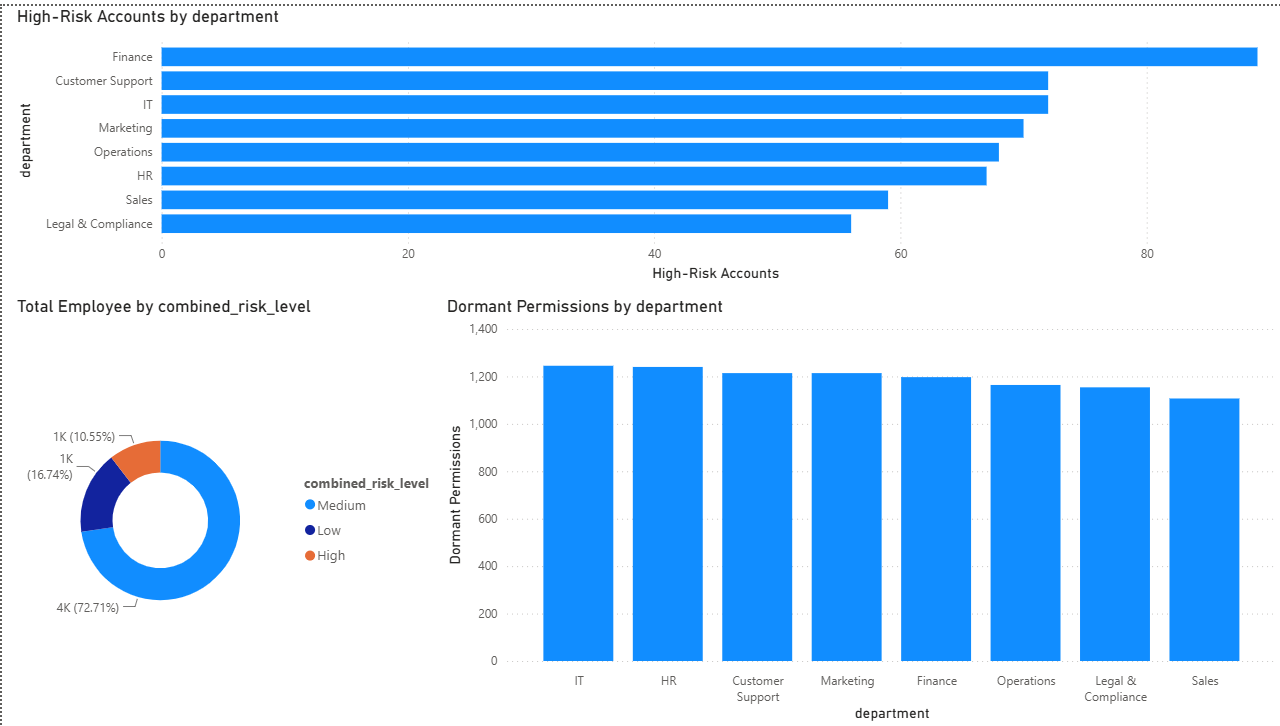

The page's visual inventory and layout, read from the dashboard file:
{"tool":"powerbi","page":{"name":"Risk Analytics ","canvas":[1280,720],"ordinal":1},"visuals":[{"type":"clusteredBarChart","fields":{"Category":["risk_assessments.department"],"Y":["risk_assessments.High-Risk Accounts"]},"box":[10,0,1270,280],"z":0},{"type":"donutChart","fields":{"Category":["risk_assessments.combined_risk_level"],"Y":["risk_assessments.Total Employee"]},"box":[10,290,430,430],"z":1000},{"type":"clusteredColumnChart","fields":{"Category":["risk_assessments.department"],"Y":["risk_assessments.Dormant Permissions"]},"box":[440,290,840,430],"z":2000}]}

Visuals, with their boxes in screenshot pixels (x1, y1, x2, y2), scaled from the page's 1280x720 canvas onto the 1280x726 screenshot:
clusteredBarChart - risk_assessments.department x risk_assessments.High-Risk Accounts: detection(10, 0, 1279, 282)
donutChart - risk_assessments.combined_risk_level x risk_assessments.Total Employee: detection(10, 292, 440, 725)
clusteredColumnChart - risk_assessments.department x risk_assessments.Dormant Permissions: detection(440, 292, 1279, 725)
